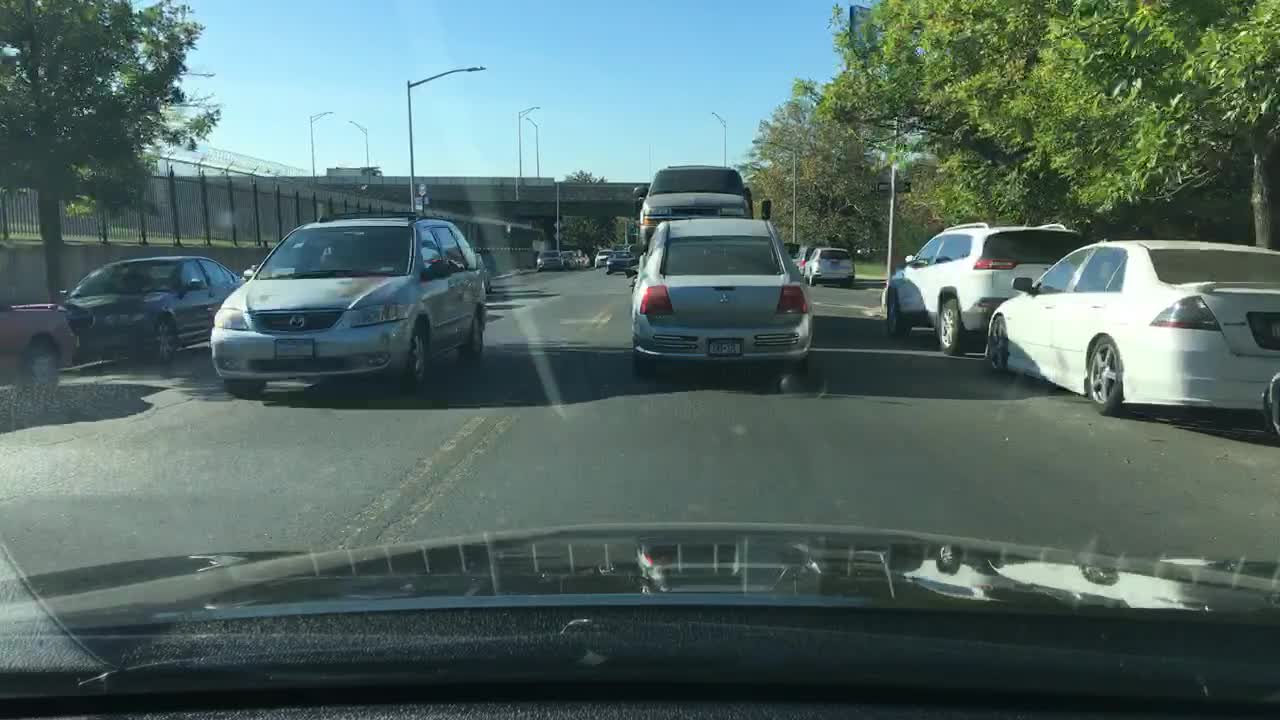car: (209, 210, 487, 399), (985, 238, 1279, 415), (629, 216, 816, 378), (881, 220, 1083, 356), (63, 254, 246, 363), (633, 163, 755, 251), (0, 299, 76, 402), (803, 246, 856, 287), (1260, 373, 1279, 436), (604, 248, 637, 275), (474, 252, 493, 296), (792, 243, 816, 275), (536, 248, 564, 273), (559, 248, 582, 270), (593, 247, 614, 269), (575, 247, 591, 267)
traffic sign: (413, 197, 424, 210), (417, 181, 427, 195)
